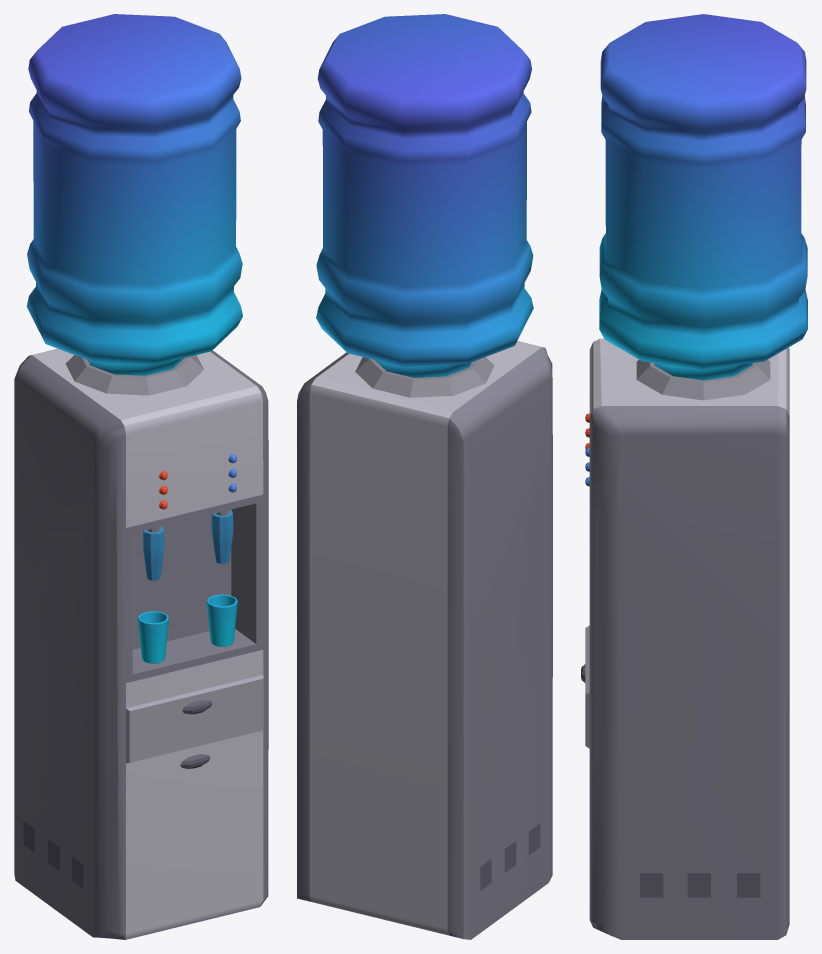
The model's file is Water_purifier.fbx.
3 renders of one model, left to right at view 1: azimuth 30°, elevation 25°; view 2: azimuth 150°, elevation 25°; view 3: azimuth 270°, elevation 25°, orthographic.
Parts seen in each view (by area): view 1: Water_purifier, Glass_01, Glass_02; view 2: Water_purifier; view 3: Water_purifier.
Part boxes in pixels (x1,y1,x2,y2): Water_purifier: [14, 14, 268, 939]; Glass_01: [137, 611, 168, 663]; Glass_02: [206, 594, 237, 646]; Water_purifier: [297, 14, 552, 939]; Water_purifier: [581, 14, 807, 939].
Bounding box in the file's own units: 44.48 × 188 × 45.98.
Materials: 1 (1 with a texture image).
